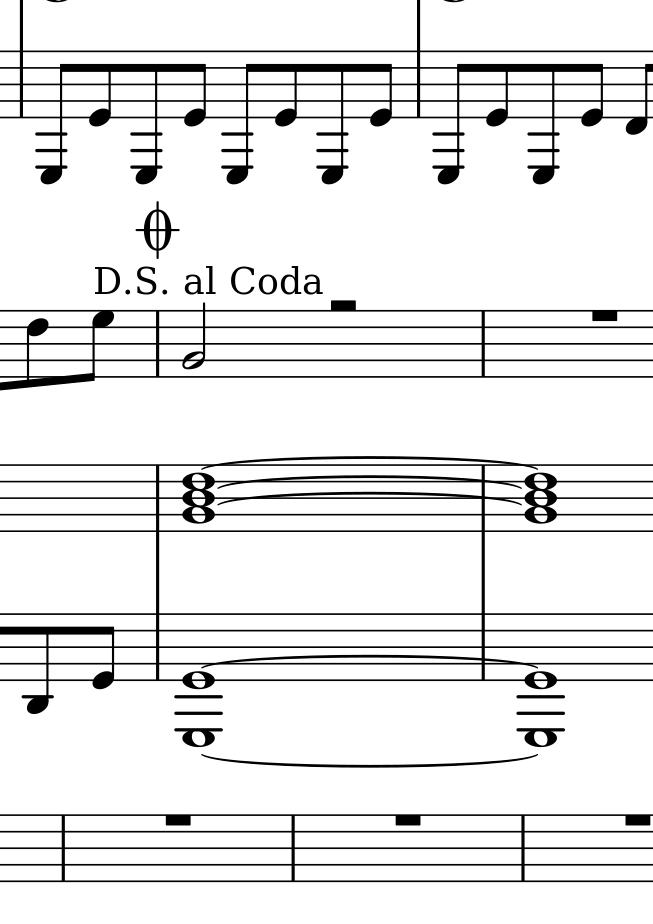1_-7_0: (176, 613, 223, 748), (518, 613, 565, 748)
1_th: (181, 464, 217, 535), (522, 464, 558, 534)
2_2: (182, 303, 208, 379)
8_-1: (621, 48, 653, 134)
8_-3: (24, 613, 51, 715)
8_-7: (221, 50, 262, 185), (432, 50, 471, 187), (37, 50, 74, 185), (317, 49, 350, 185), (527, 49, 559, 186), (130, 50, 161, 185)
8_0: (367, 48, 394, 130), (274, 50, 300, 127), (92, 611, 117, 691), (581, 49, 606, 128), (89, 50, 113, 130), (183, 50, 207, 129), (487, 49, 510, 128)
8_6: (24, 309, 49, 390)
8_7: (82, 309, 115, 384)
Coda: (137, 195, 178, 258)
DSalcoda: (92, 262, 331, 296)
Rests1: (620, 806, 653, 830), (584, 304, 623, 324), (389, 809, 426, 830), (159, 810, 199, 828)
Rests2: (325, 293, 365, 318)
Single_barline: (475, 613, 493, 682), (14, 48, 30, 119), (150, 611, 165, 684), (150, 310, 165, 383), (476, 310, 491, 383), (411, 50, 426, 118), (285, 820, 302, 879), (151, 462, 165, 533), (516, 819, 531, 878), (476, 471, 491, 529), (57, 819, 70, 877)
Slur: (201, 752, 544, 771), (198, 652, 543, 670), (196, 454, 543, 470), (215, 475, 528, 491), (216, 493, 526, 508)
dot: (160, 288, 169, 295)
